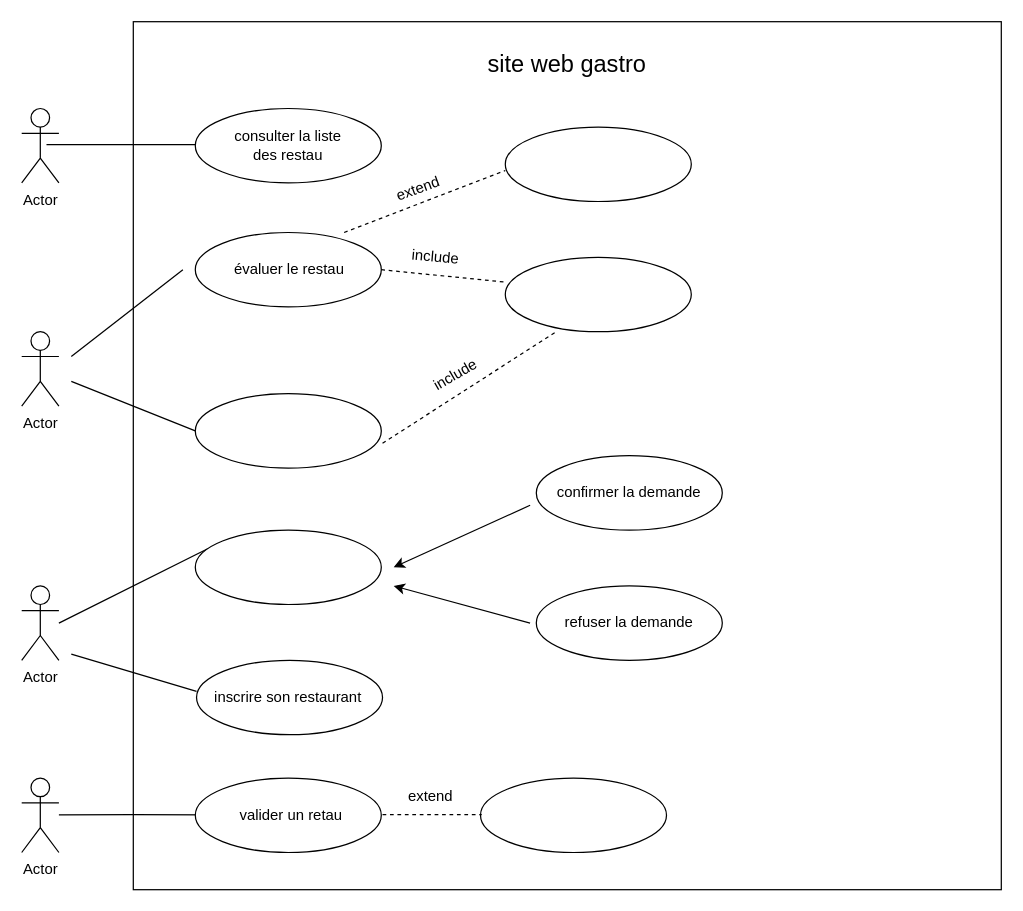
The diagram is 1023 pixels wide and 911 high, and some of its shapes have lost their labels. The shapes that lost their labels are listed below. From the top down, each one's centre as x and y in pixels, then its label:
(x=597, y=164): déposer des commentaires
(x=597, y=294): s'authentifier
(x=287, y=430): réserver table
(x=287, y=566): valider la demande de réservation
(x=572, y=814): effectuer une visite
